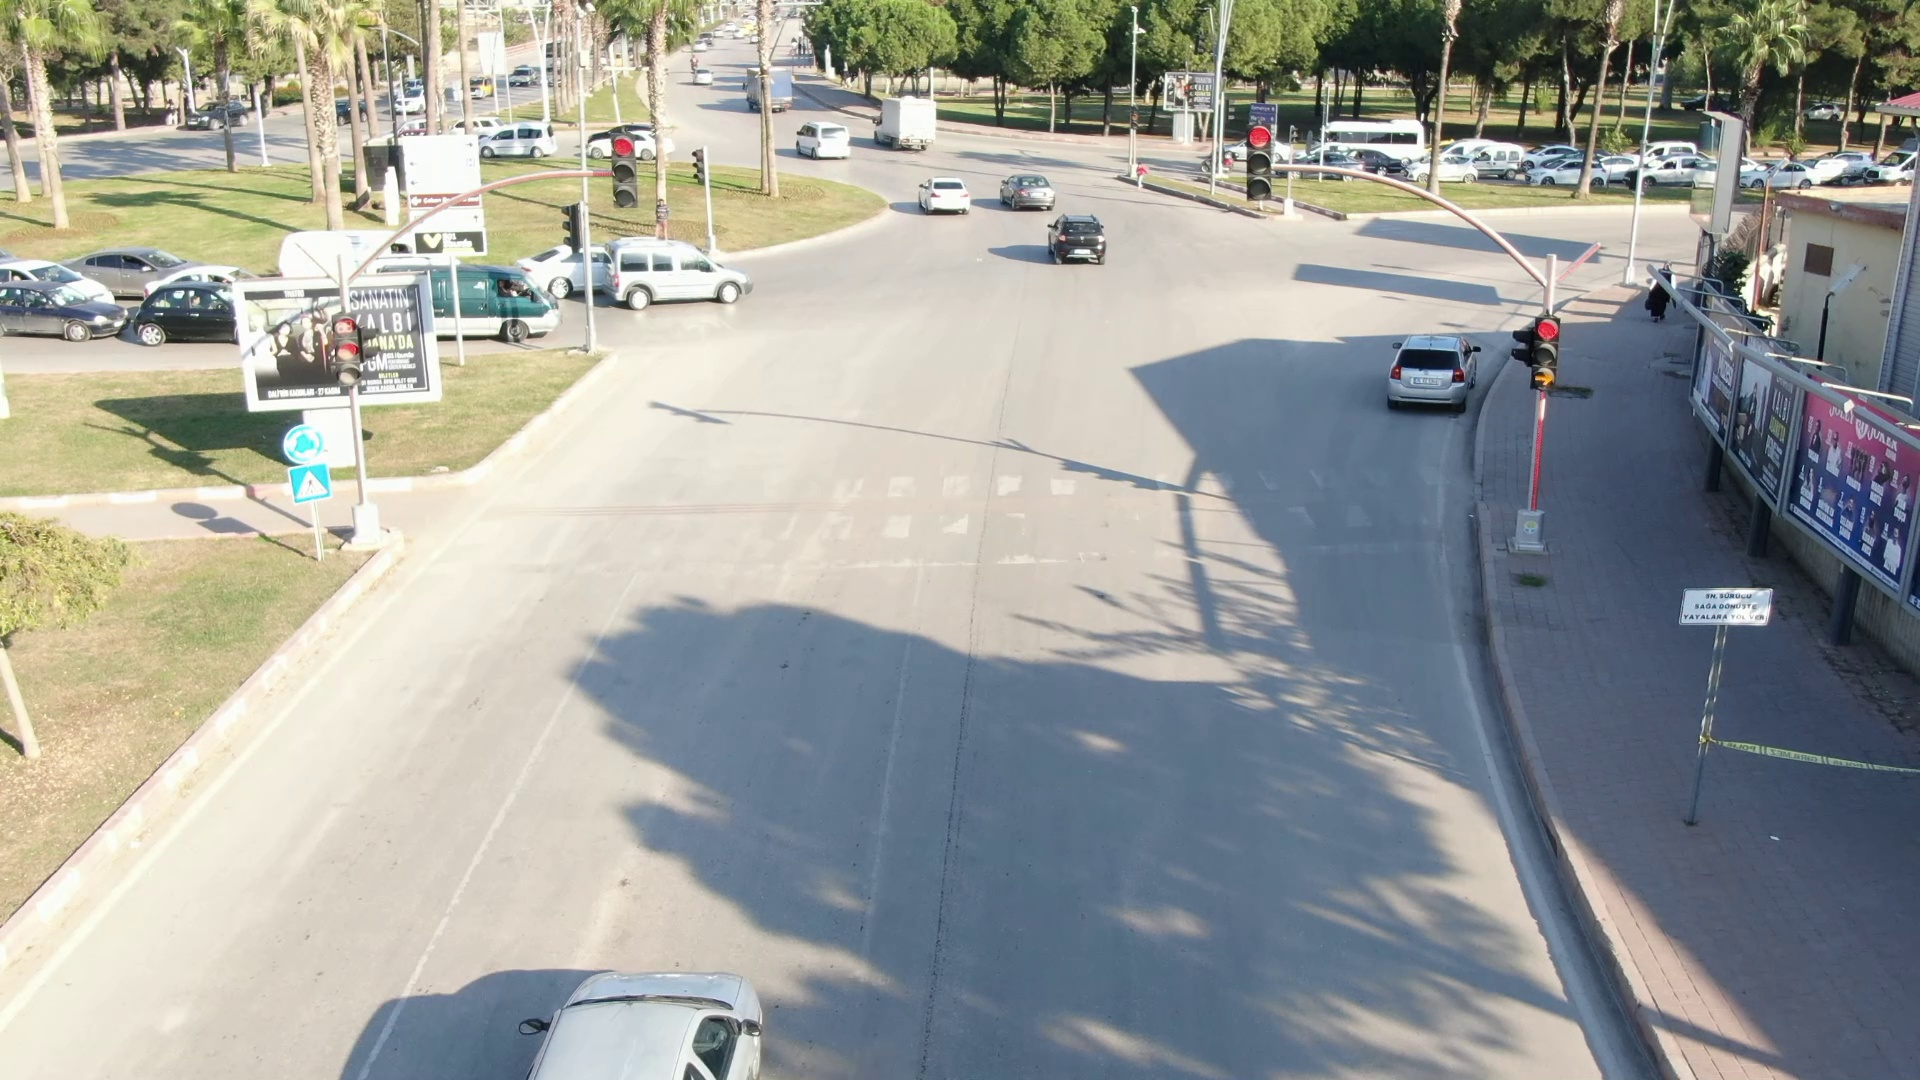car: (596, 225, 756, 323), (1367, 316, 1489, 429), (1033, 204, 1125, 277), (858, 87, 945, 156), (985, 164, 1064, 218), (910, 169, 977, 224), (789, 113, 857, 166)
